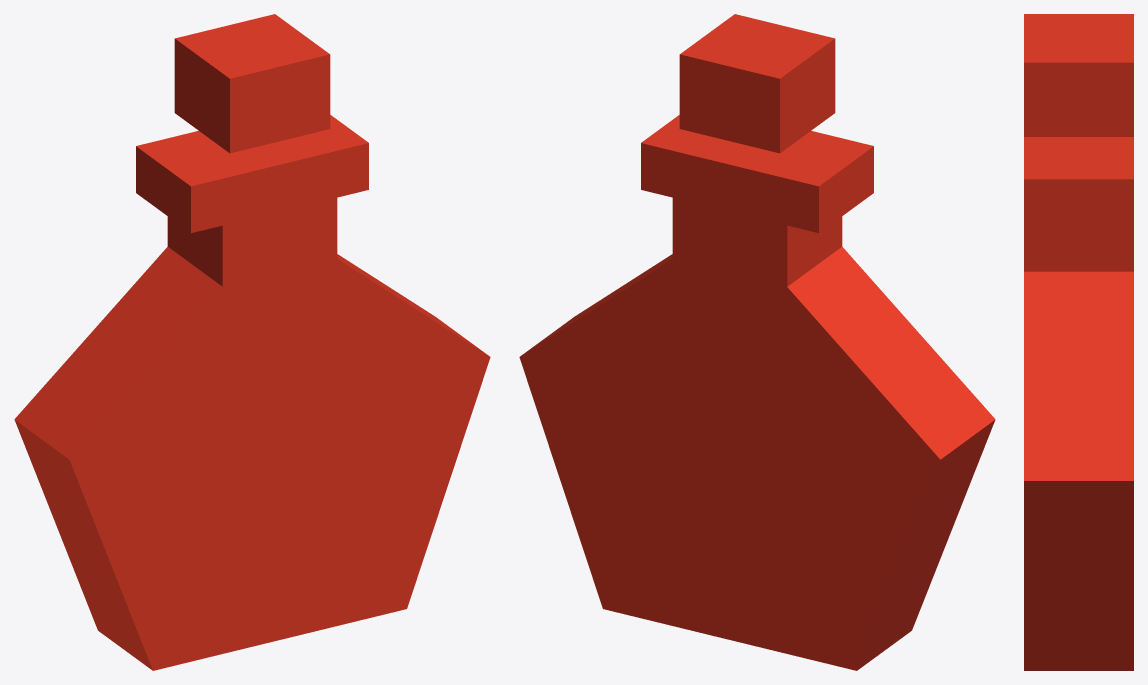
Rendered from Icon_Potion_04.fbx.
The picture shows the model from 3 angles, left to right: view 1: azimuth 30°, elevation 25°; view 2: azimuth 150°, elevation 25°; view 3: azimuth 270°, elevation 25°; orthographic projection.
Parts seen in each view (by area): view 1: Icon_Potion_04; view 2: Icon_Potion_04; view 3: Icon_Potion_04.
Boxes of the visible parts, bbox=[...] form: Icon_Potion_04: bbox=[14, 14, 490, 670]; Icon_Potion_04: bbox=[519, 14, 995, 670]; Icon_Potion_04: bbox=[1024, 14, 1133, 670].
Bounding box in the file's own units: 53.2 × 69.22 × 12.06.
